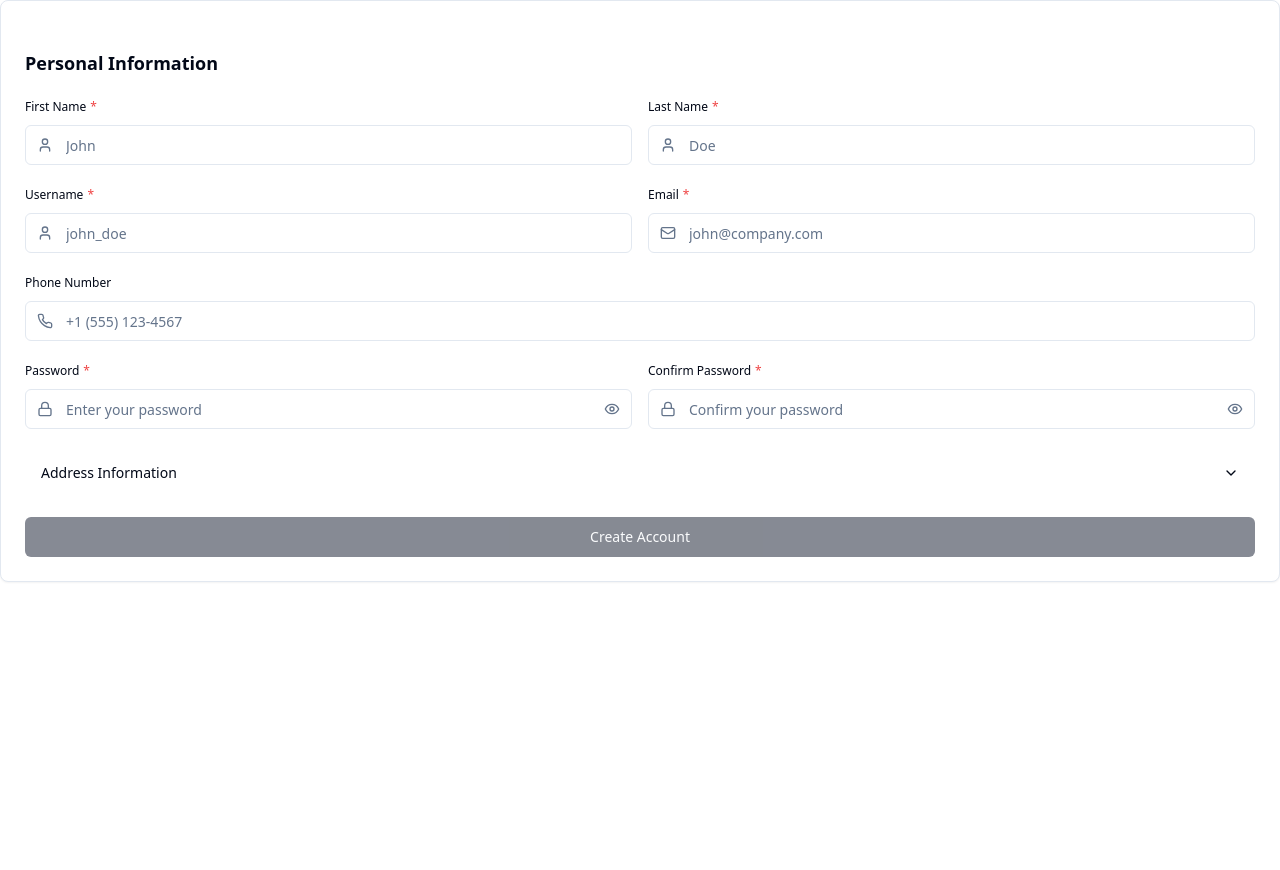
Test: FlexibleSignUpForm › Address Section › FlexibleSignUpForm_shouldRenderCollapsibleAddressSection
Expected: the field labelled "Street Number" is not shown
Note: Click to expand
Step 1. Click the button "Address Information" → x=109, y=472, box x1=25 y1=453 x2=1255 y2=493
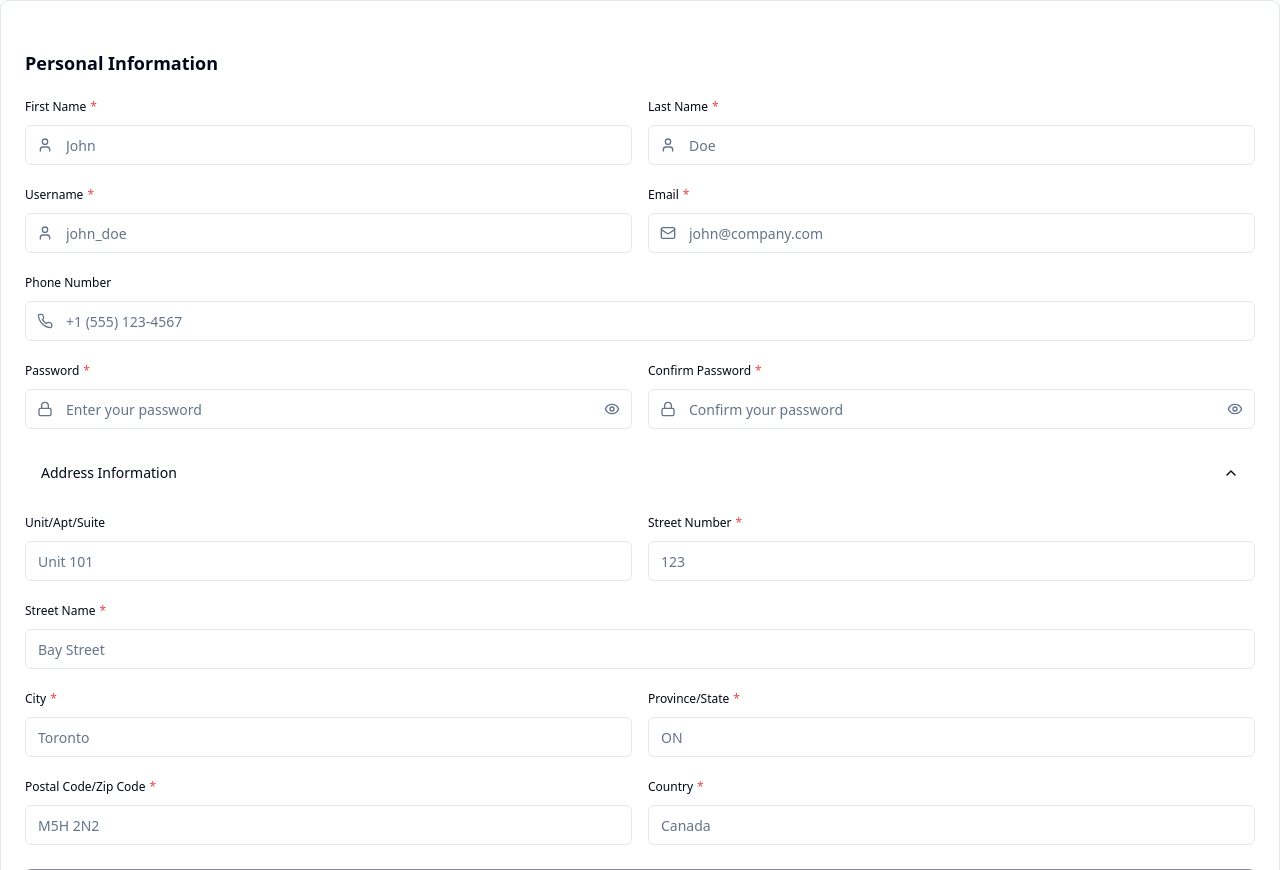
Now the field labelled "Street Number*" is shown, box x1=648 y1=541 x2=1255 y2=581
